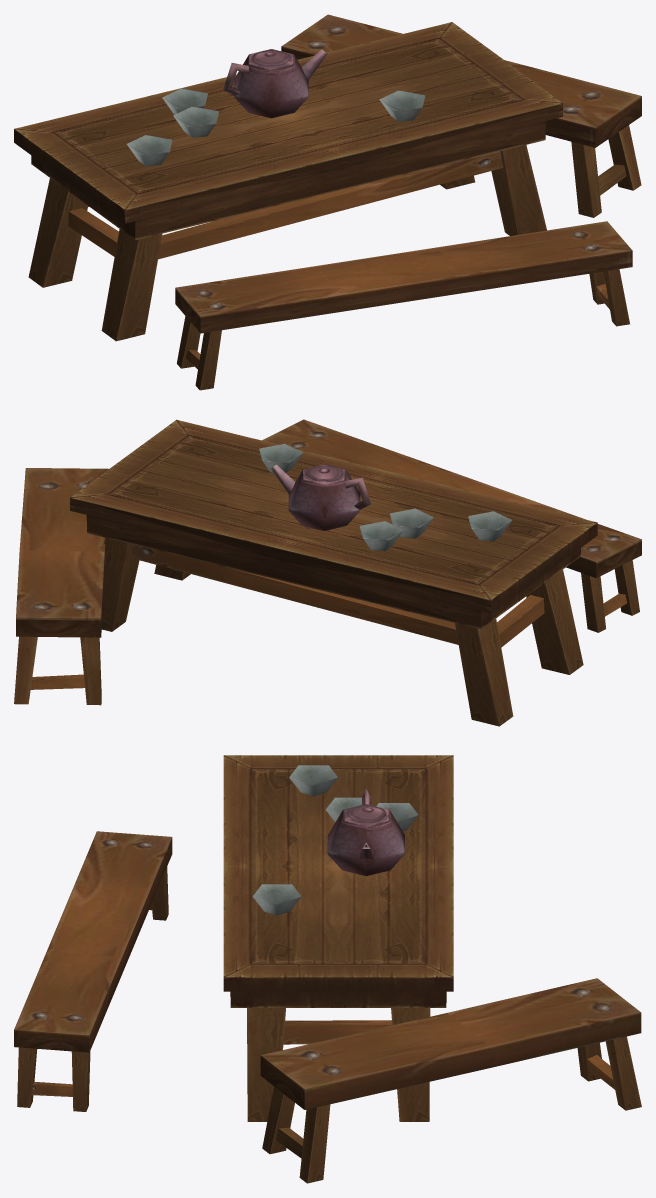
Rendered from szc_object_tanwei11a.FBX.
The picture shows the model from 3 angles, top to bottom: view 1: azimuth 30°, elevation 25°; view 2: azimuth 150°, elevation 25°; view 3: azimuth 270°, elevation 25°; orthographic projection. The views are drawn at different scales.
Parts seen in each view (by area): view 1: szc_object_tanwei11a; view 2: szc_object_tanwei11a; view 3: szc_object_tanwei11a.
Part boxes in pixels (x1=…): szc_object_tanwei11a: x1=14, y1=14, x2=641, y2=390; szc_object_tanwei11a: x1=14, y1=419, x2=641, y2=726; szc_object_tanwei11a: x1=14, y1=755, x2=641, y2=1183.
Size of the model in its own units: 298 by 99.64 by 280.
